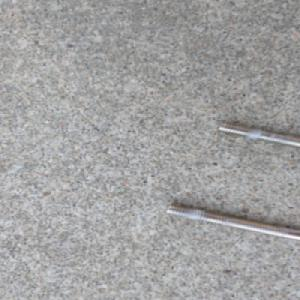ClampPart: (163, 120, 300, 241)
